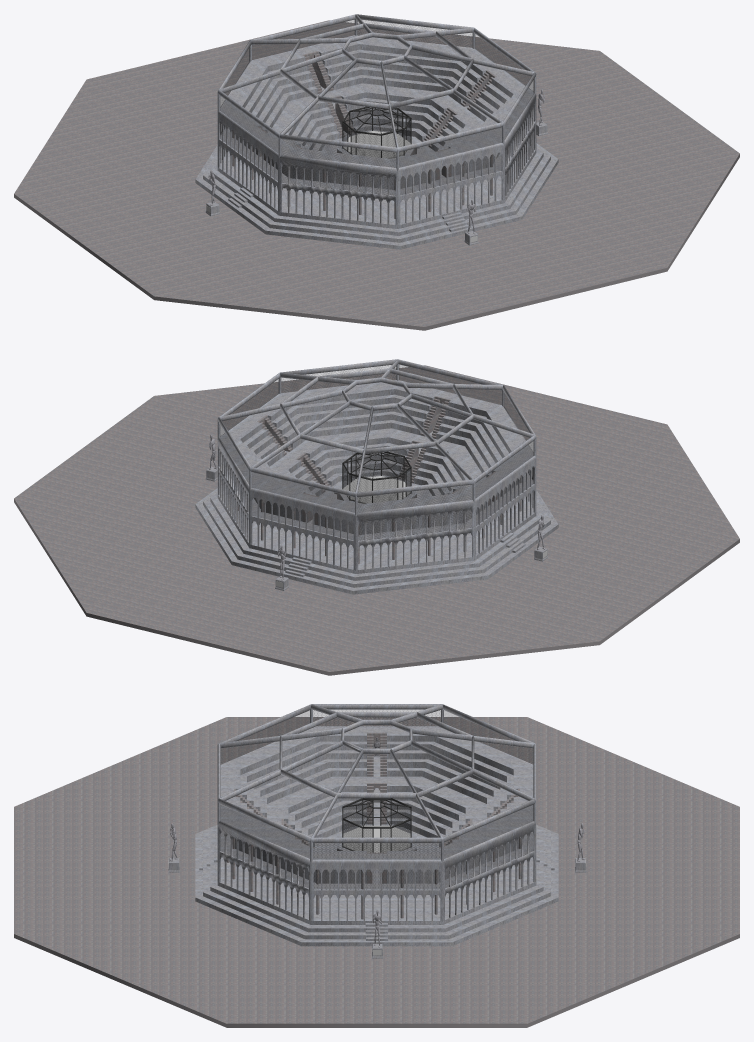
Rendered from ground_1.gltf.
3 views of the same model, one above another, from view 1: azimuth 30°, elevation 25°; view 2: azimuth 150°, elevation 25°; view 3: azimuth 270°, elevation 25° (orthographic). The views are drawn at different scales.
Visible parts, largest first — view 1: SUELO EXT; view 2: SUELO EXT; view 3: SUELO EXT.
Boxes of the visible parts, <box> form: SUELO EXT: <box>14,14,739,330</box>; SUELO EXT: <box>14,359,739,675</box>; SUELO EXT: <box>14,704,739,1027</box>.
Size of the model in its own units: 492 by 105 by 492.
